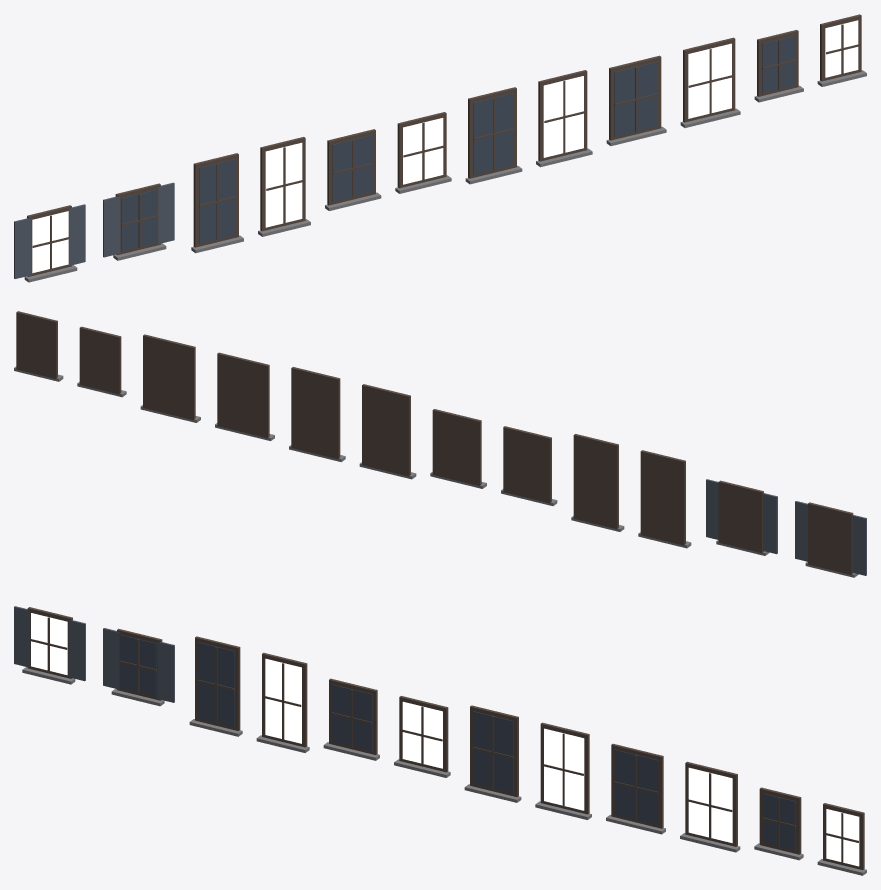
File: ventana.glb
3 views of the same model, one above another, from view 1: azimuth 30°, elevation 25°; view 2: azimuth 150°, elevation 25°; view 3: azimuth 330°, elevation 25° (orthographic).
Visible parts, largest first — view 1: Ventana_100x140_postigos, Ventana_100x140_luz_postigos, Ventana_110x190_luz, Ventana_110x190, Ventana_120x170, Ventana_120x170_luz, Ventana_100x200_luz, Ventana_100x200, Ventana_110x150_luz, Ventana_110x150, Ventana_90x130, Ventana_90x130_luz; view 2: Ventana_100x140_luz_postigos, Ventana_100x140_postigos, Ventana_110x190_luz, Ventana_110x190, Ventana_120x170_luz, Ventana_120x170, Ventana_100x200, Ventana_100x200_luz, Ventana_110x150_luz, Ventana_110x150, Ventana_90x130, Ventana_90x130_luz; view 3: Ventana_100x140_luz_postigos, Ventana_100x140_postigos, Ventana_110x190_luz, Ventana_110x190, Ventana_120x170_luz, Ventana_120x170, Ventana_100x200, Ventana_100x200_luz, Ventana_110x150_luz, Ventana_110x150, Ventana_90x130, Ventana_90x130_luz.
Boxes of the visible parts, x1,y1,x2,y2 form: Ventana_100x140_postigos: (103, 182, 174, 260); Ventana_100x140_luz_postigos: (14, 204, 85, 282); Ventana_110x190_luz: (536, 70, 592, 167); Ventana_110x190: (465, 87, 522, 184); Ventana_120x170: (606, 55, 666, 145); Ventana_120x170_luz: (680, 37, 740, 127); Ventana_100x200_luz: (258, 137, 310, 236); Ventana_100x200: (191, 153, 243, 253); Ventana_110x150_luz: (395, 112, 451, 193); Ventana_110x150: (325, 129, 381, 210); Ventana_90x130: (754, 30, 803, 102); Ventana_90x130_luz: (817, 14, 866, 86); Ventana_100x140_luz_postigos: (795, 501, 866, 577); Ventana_100x140_postigos: (706, 479, 777, 555); Ventana_110x190_luz: (289, 367, 345, 462); Ventana_110x190: (359, 384, 416, 479); Ventana_120x170_luz: (140, 334, 200, 422); Ventana_120x170: (215, 352, 274, 440); Ventana_100x200: (638, 450, 691, 548); Ventana_100x200_luz: (571, 434, 624, 531); Ventana_110x150_luz: (430, 409, 486, 488); Ventana_110x150: (501, 426, 557, 505); Ventana_90x130: (77, 326, 126, 397); Ventana_90x130_luz: (14, 311, 63, 381); Ventana_100x140_luz_postigos: (14, 606, 85, 684); Ventana_100x140_postigos: (103, 628, 174, 706); Ventana_110x190_luz: (535, 722, 591, 819); Ventana_110x190: (464, 705, 521, 802); Ventana_120x170_luz: (680, 761, 740, 852); Ventana_120x170: (606, 743, 665, 834); Ventana_100x200: (189, 636, 242, 736); Ventana_100x200_luz: (256, 652, 309, 752); Ventana_110x150_luz: (394, 696, 450, 777); Ventana_110x150: (323, 678, 379, 760); Ventana_90x130: (754, 787, 803, 860); Ventana_90x130_luz: (817, 803, 866, 875).
Size of the model in its own units: 23.4 by 2.26 by 0.21.
